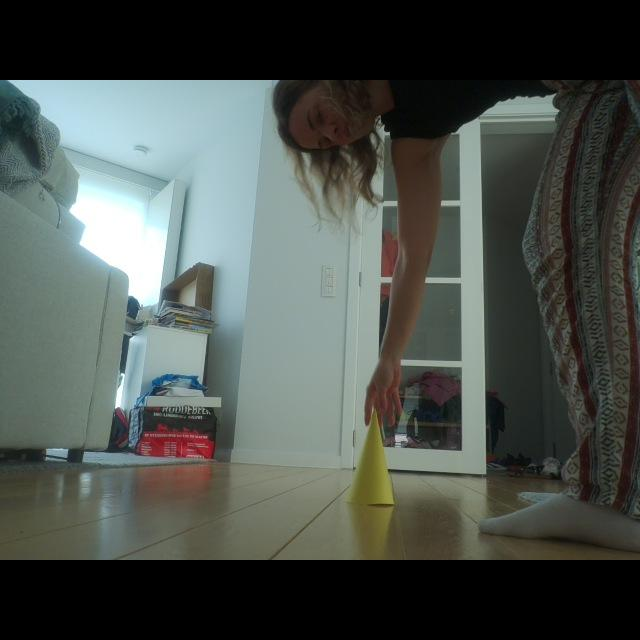bolya: (348, 414, 393, 504)
